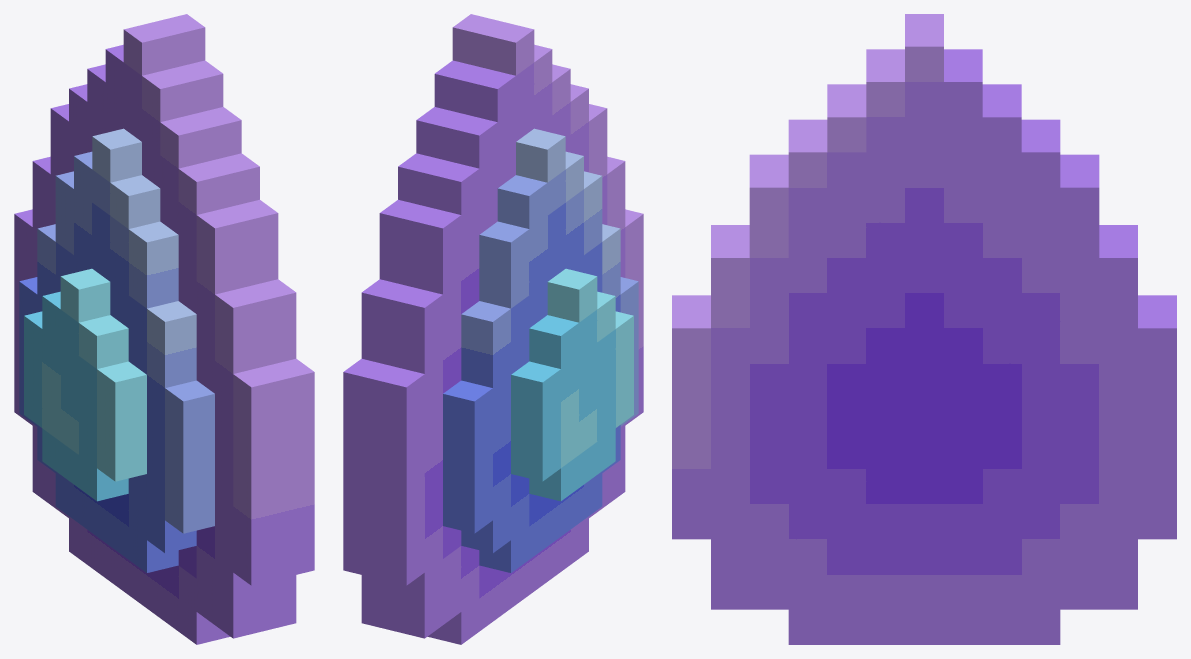
Rendered from Item_MermaidScale_01.gltf.
The picture shows the model from 3 angles, left to right: view 1: azimuth 30°, elevation 25°; view 2: azimuth 150°, elevation 25°; view 3: azimuth 270°, elevation 25°; orthographic projection. The views are drawn at different scales.
Parts seen in each view (by area): view 1: pn_chest_gold-Mesh; view 2: pn_chest_gold-Mesh; view 3: pn_chest_gold-Mesh.
Boxes of the visible parts, x1,y1,x2,y2 form: pn_chest_gold-Mesh: [14, 14, 314, 644]; pn_chest_gold-Mesh: [343, 14, 643, 644]; pn_chest_gold-Mesh: [672, 14, 1176, 644].
Bounding box in the file's own units: 4 × 17 × 13.
1 material, 1 textured.
